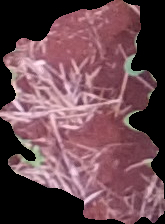soil: (1, 2, 165, 223)
